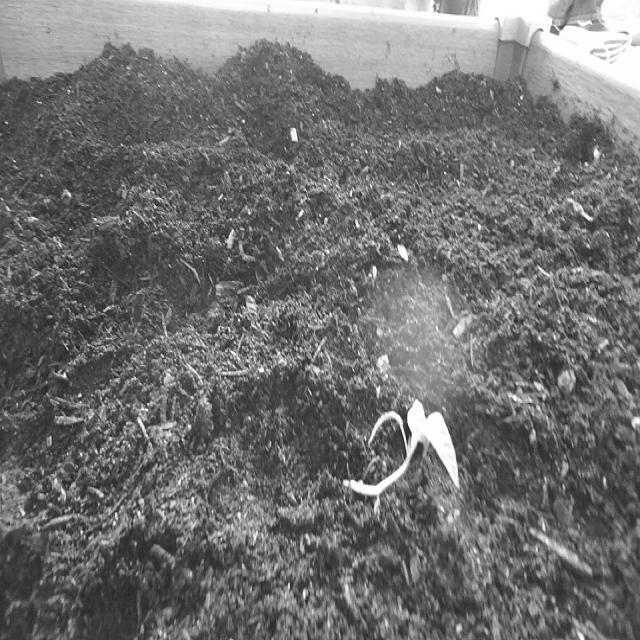Unhealthy: (334, 384, 469, 528)
